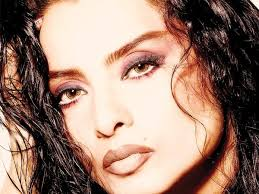indian_female: (15, 1, 227, 190)
